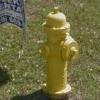Hydrant: (35, 3, 88, 97)
